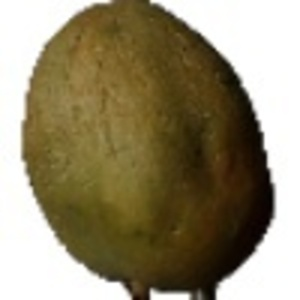mamão: (16, 2, 280, 293)
